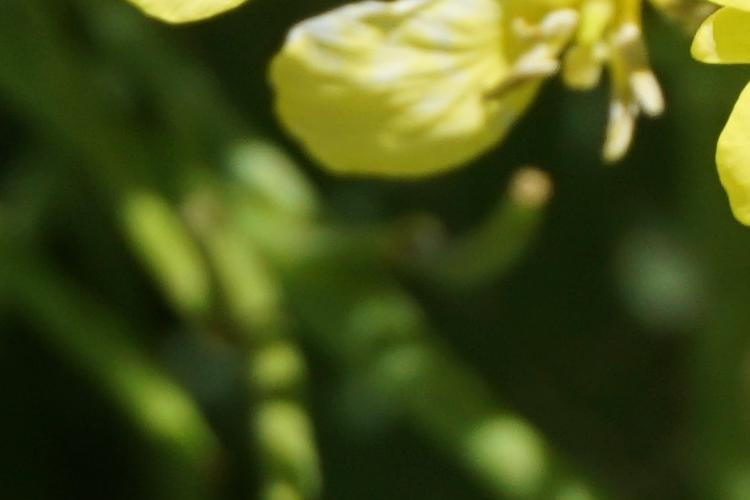yellow: (286, 1, 703, 166)
